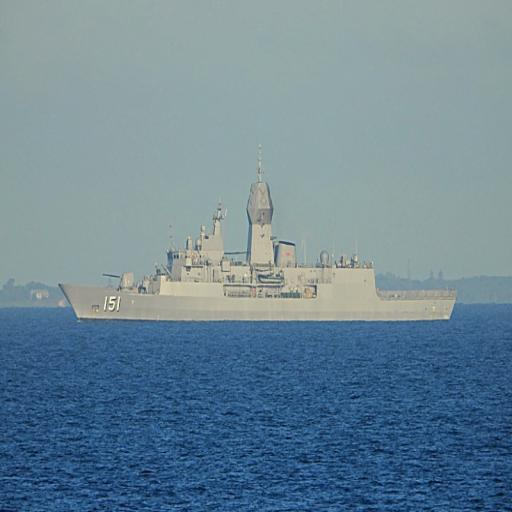Fragata: (55, 148, 460, 323)
